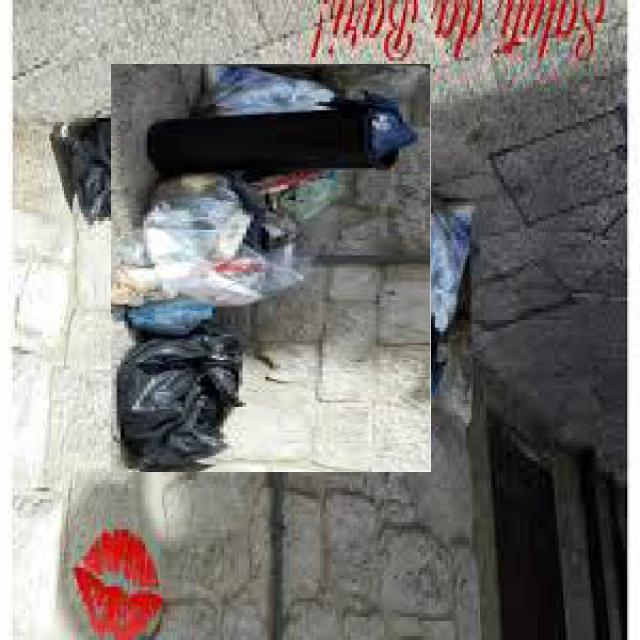Trashbag: (94, 335, 249, 481), (46, 122, 122, 212)
